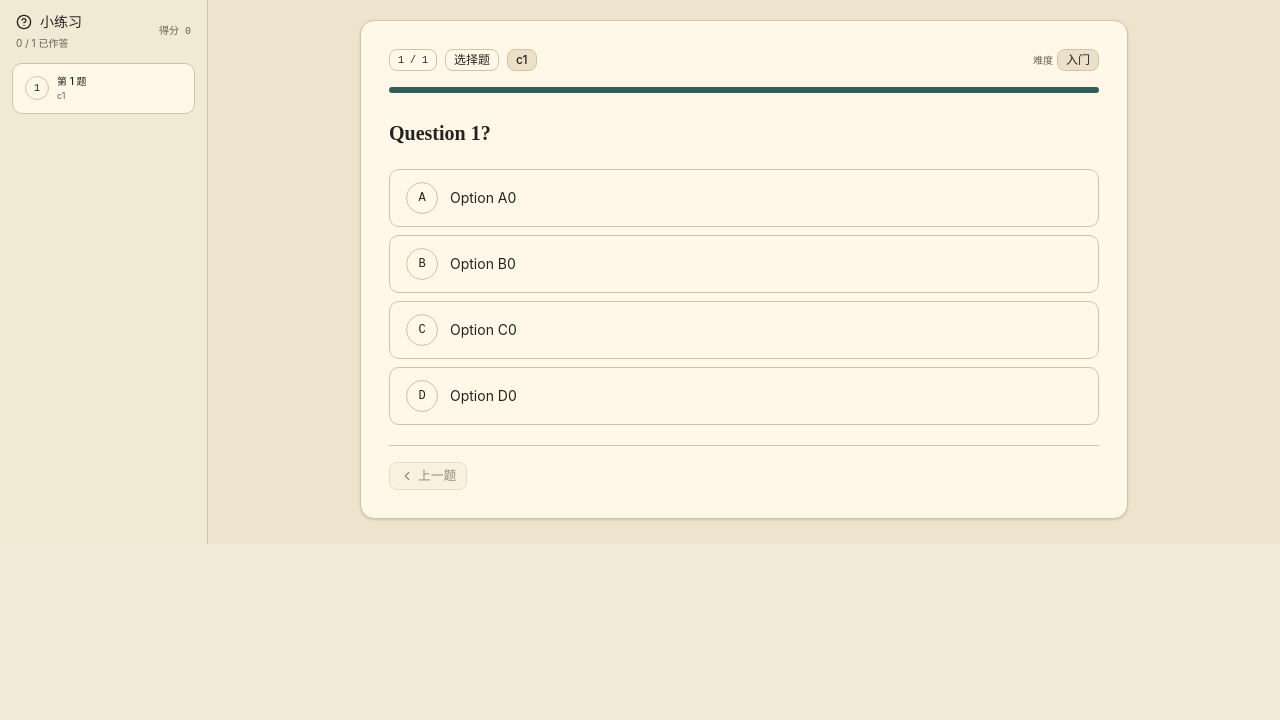
Scenario: QuizPanel › shows explanation on reveal
Click the button "A Option A0" at (422, 198), box [389,169,1099,227]
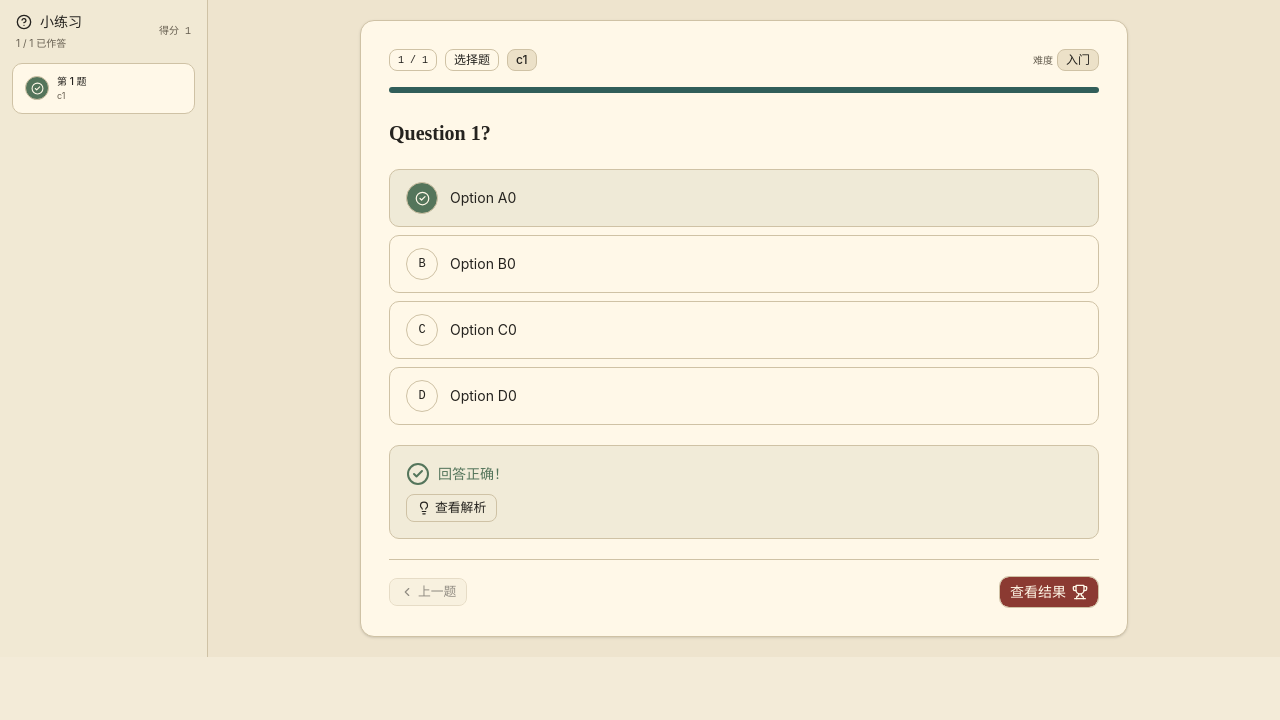
Click the button "查看解析" at (452, 508), box [406,494,497,522]
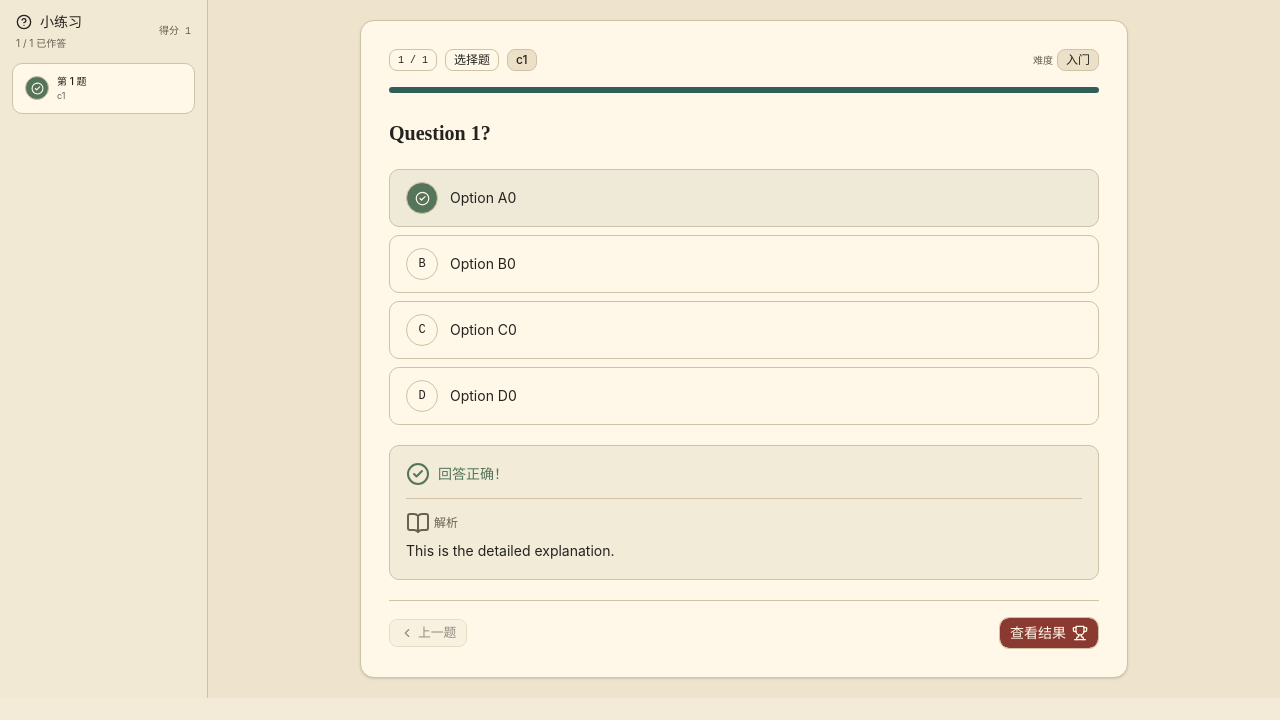
Expected: the text "This is the detailed explanation." is shown, [406,542,614,559]
